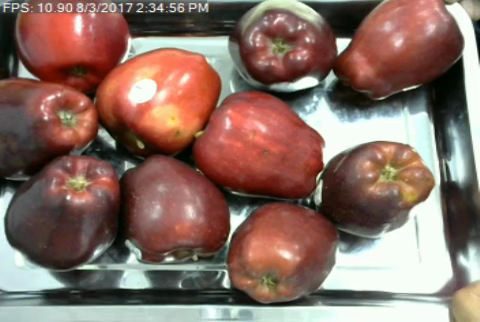Apple: (89, 45, 224, 160), (190, 87, 325, 201), (1, 152, 125, 273), (112, 151, 232, 267), (330, 0, 466, 102), (309, 137, 436, 239), (224, 198, 341, 305), (12, 0, 131, 93), (0, 72, 100, 182), (226, 0, 340, 92)
